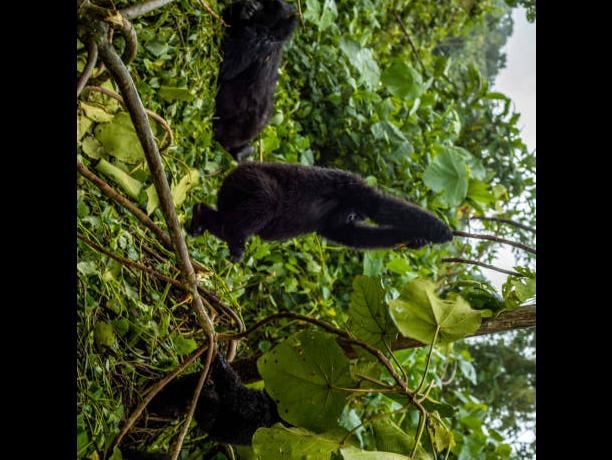goriile_montagne: (194, 156, 451, 268), (184, 0, 328, 159)
